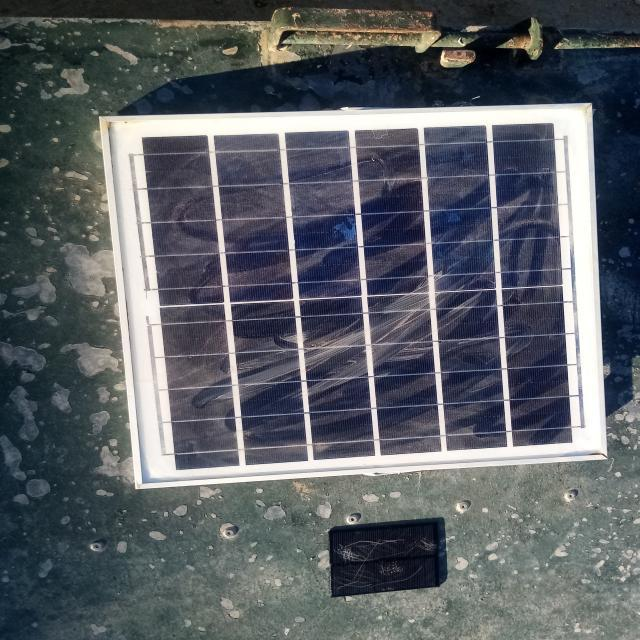faulty: (107, 106, 609, 486)
